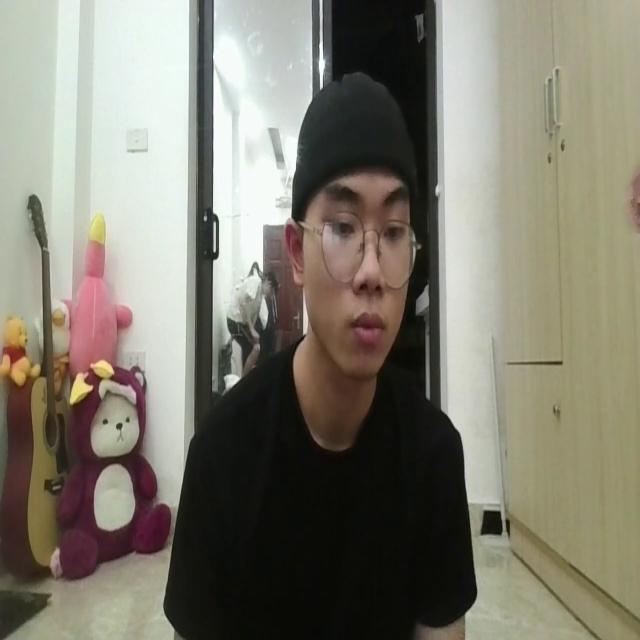student: (181, 71, 471, 640)
